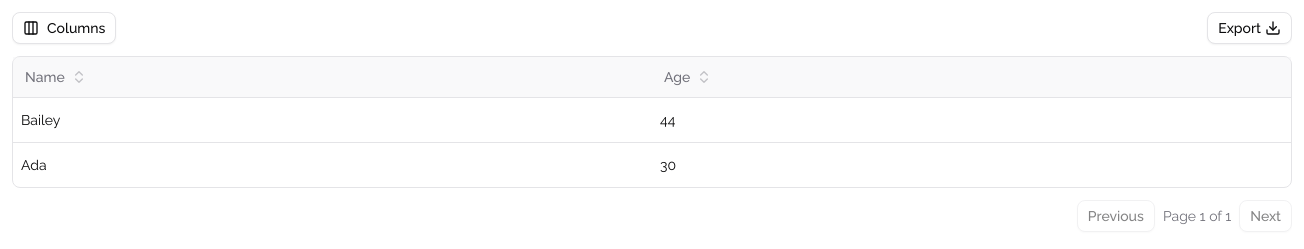
it: DataTable › real DOM focus returns to the cell (not document.body) after leaving edit mode, so Enter re-opens it
Press the mouse on the text "Bailey" at (41, 120), box [21,112,60,128]
Click the text "Bailey".
click(41, 120)  # box [21,112,60,128]
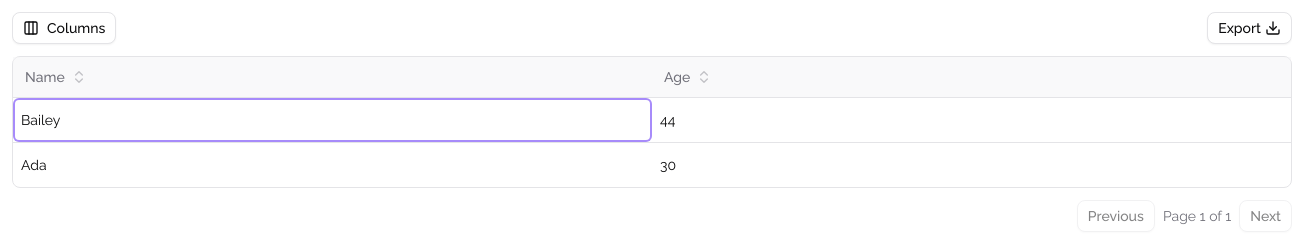
Click the text "Bailey".
click(332, 120)  # box [13,98,652,142]
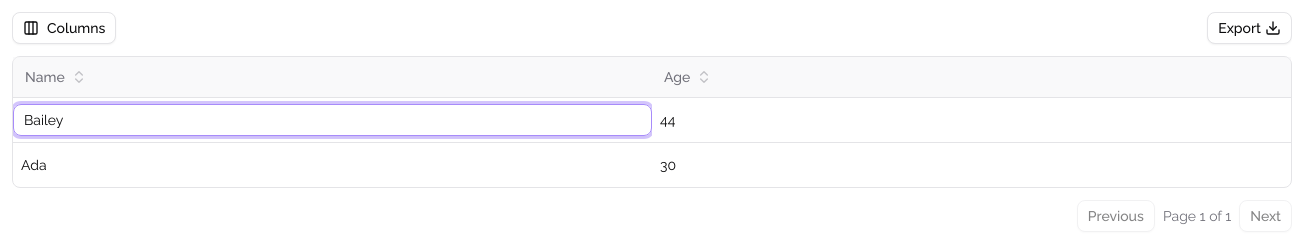
Press Escape in the field, box [13,104,652,136]
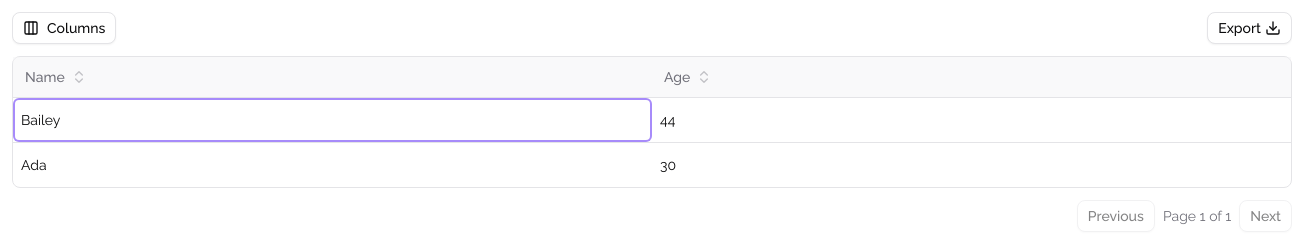
Press Enter in the text "Bailey", box [13,98,652,142]
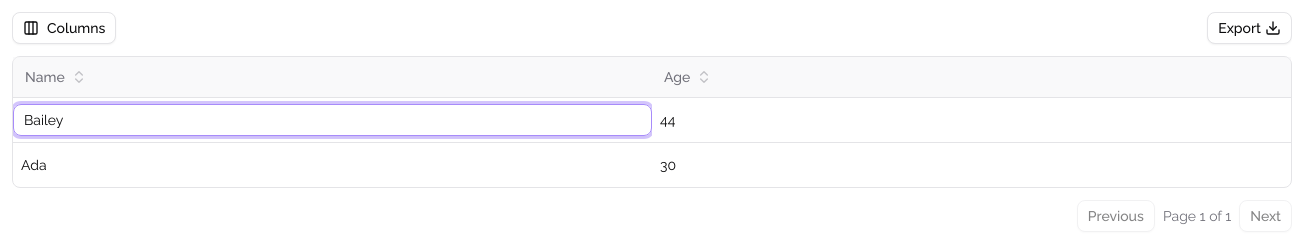
expect the field is shown: met, box [13,104,652,136]
